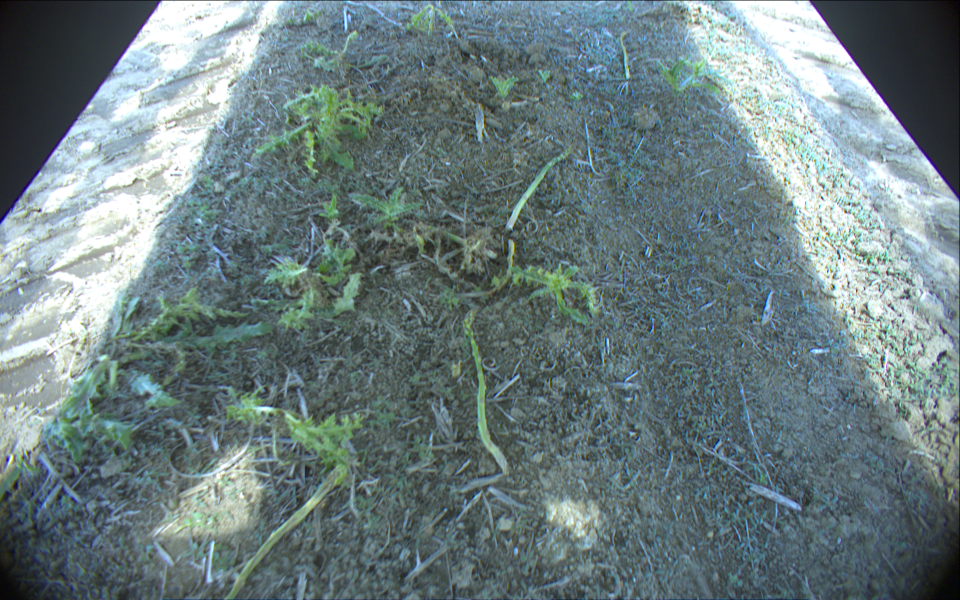aspa: (224, 465, 346, 600), (464, 320, 508, 476), (505, 146, 574, 232), (620, 30, 632, 80)
